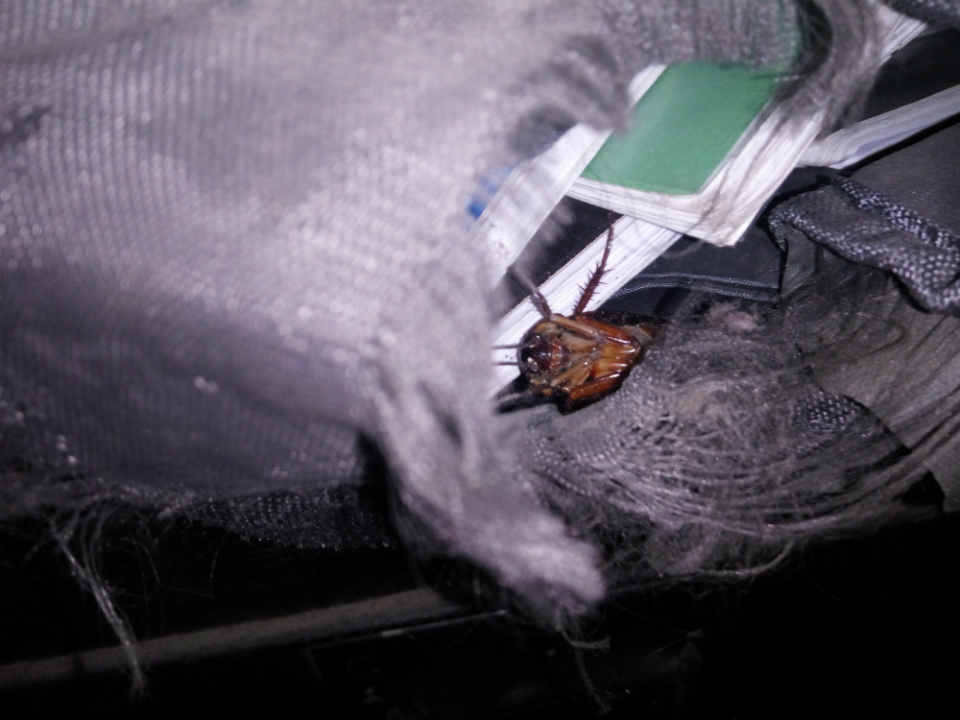cockroach: (498, 289, 680, 424)
